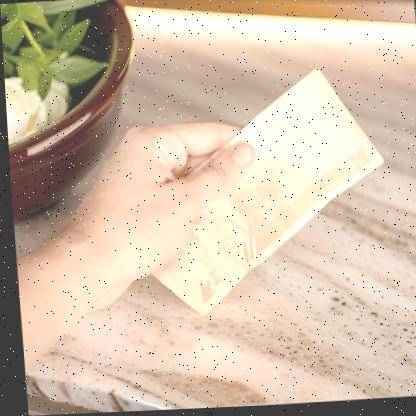twenty-back-vef: (133, 66, 390, 321)
